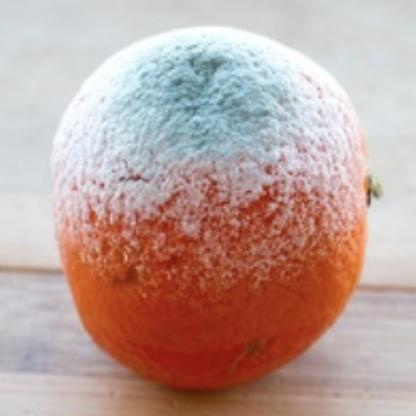rotten: (58, 29, 374, 397)
